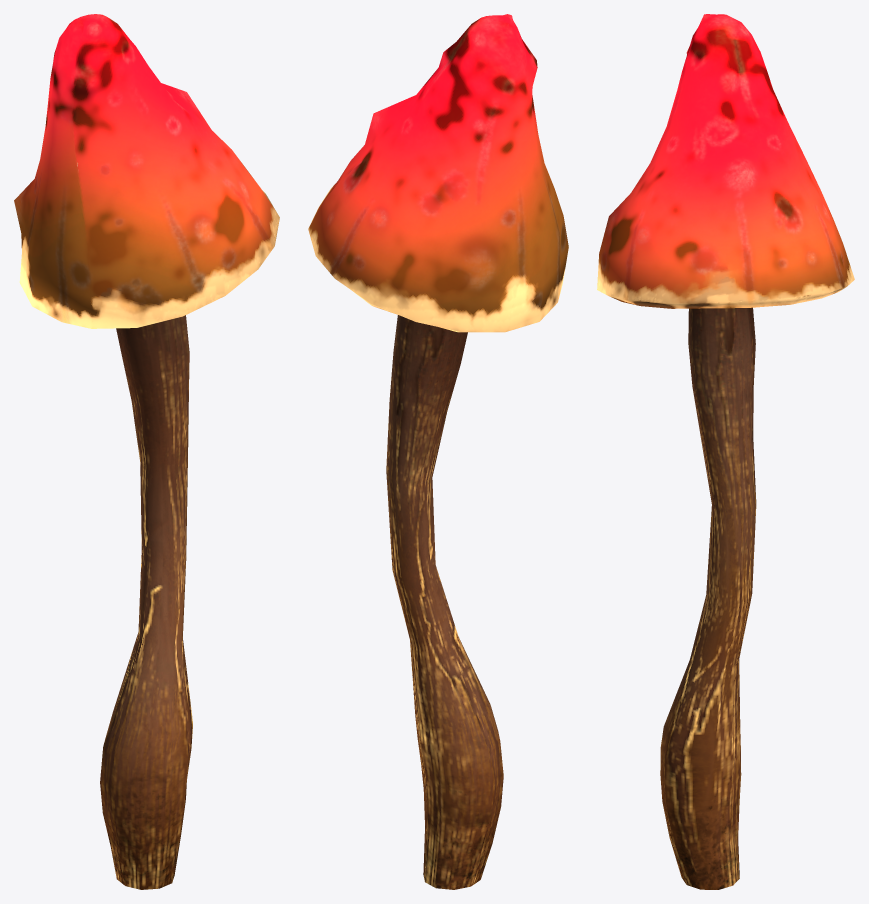
The model's file is 1 grib.fbx.
The picture shows the model from 3 angles, left to right: view 1: azimuth 30°, elevation 25°; view 2: azimuth 150°, elevation 25°; view 3: azimuth 270°, elevation 25°; orthographic projection. The views are drawn at different scales.
Parts seen in each view (by area): view 1: lp1.002; view 2: lp1.002; view 3: lp1.002.
Boxes of the visible parts, x1,y1,x2,y2 form: lp1.002: (14, 14, 279, 889); lp1.002: (308, 14, 568, 889); lp1.002: (597, 14, 854, 889).
Size of the model in its own units: 2063 by 7715 by 2147.
